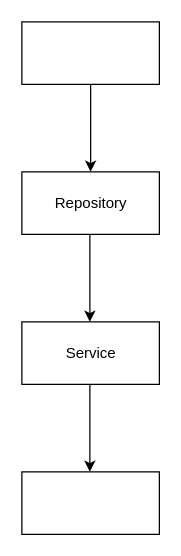
Image size: 181x556. Some labels were removed from this diagram. Here are the shapes that lost their labels. From the top down, the box of each, then its label:
(21, 21, 159, 84): Model
(21, 471, 159, 534): Controller
